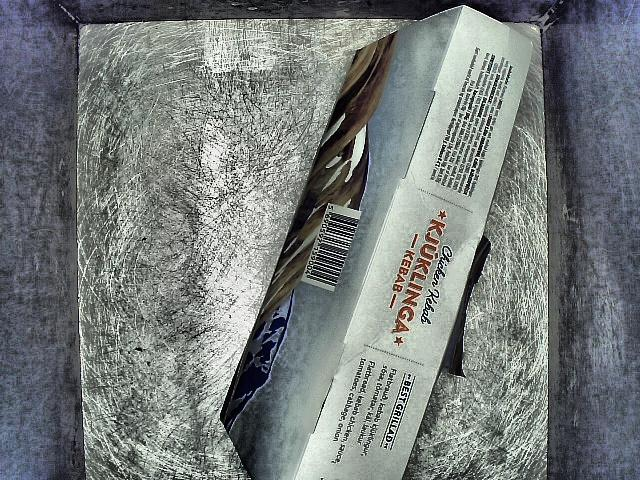Paper: (214, 0, 540, 480)
